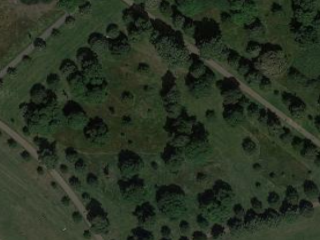Tree: (113, 146, 148, 176), (155, 187, 190, 217), (198, 188, 233, 218), (79, 118, 114, 148), (55, 100, 90, 130), (14, 100, 49, 130), (180, 65, 215, 95), (181, 124, 216, 154), (257, 44, 292, 74), (117, 5, 152, 35), (78, 69, 113, 99), (86, 27, 121, 57), (117, 195, 152, 225), (112, 164, 147, 194), (234, 131, 261, 154)
